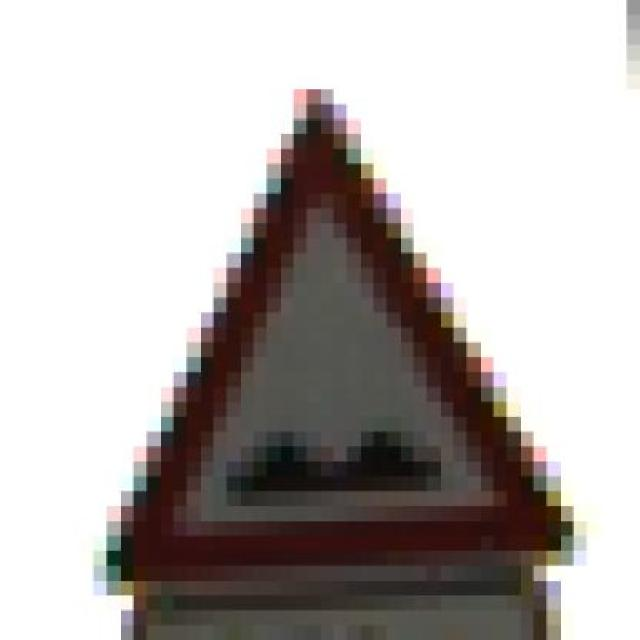Uneven Road: (50, 81, 584, 573)
